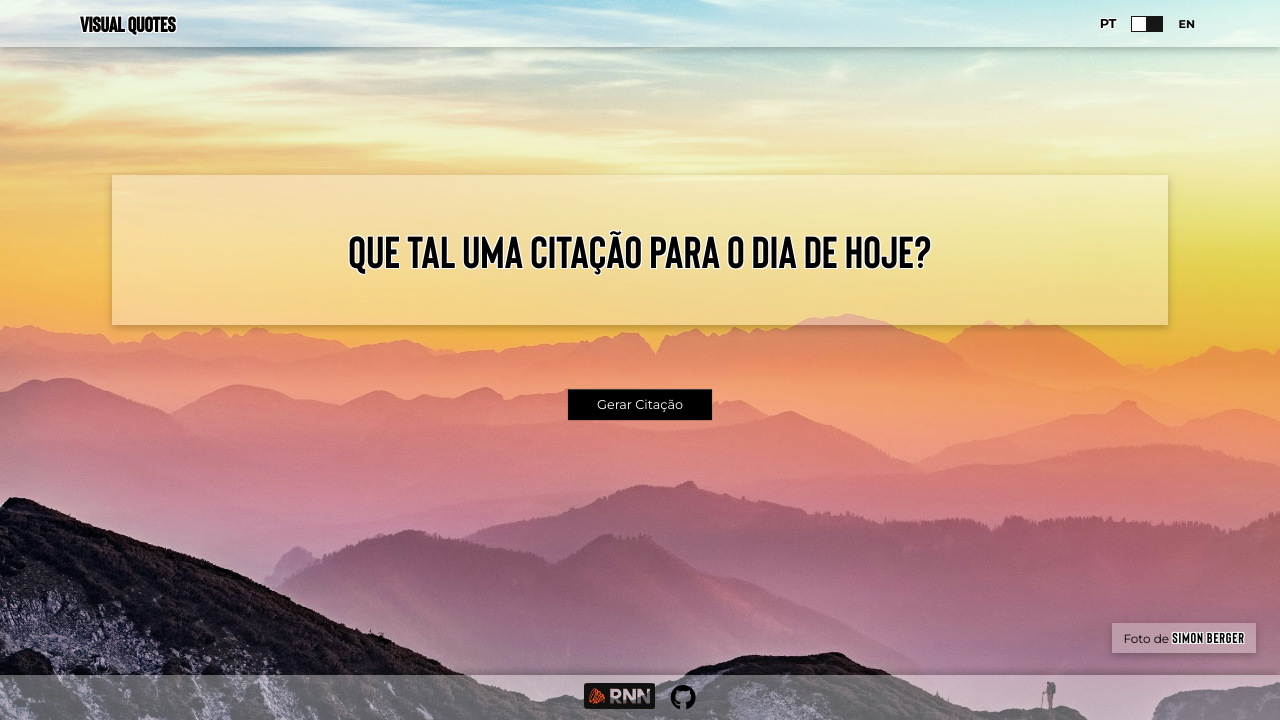
Test: Teste E2E para a Tela Inicial › Deve traduzir a frase ao alterar o idioma
Expected: the text with id "titulo" reads "Que tal uma citação para o dia de hoje?", [348, 223, 931, 277]
Expected: the button with class "botao-frase" reads "Gerar Citação", [568, 389, 712, 420]
Check the checkbox with id "idioma-toggle" at [1148, 24], box [1132, 16, 1164, 32]
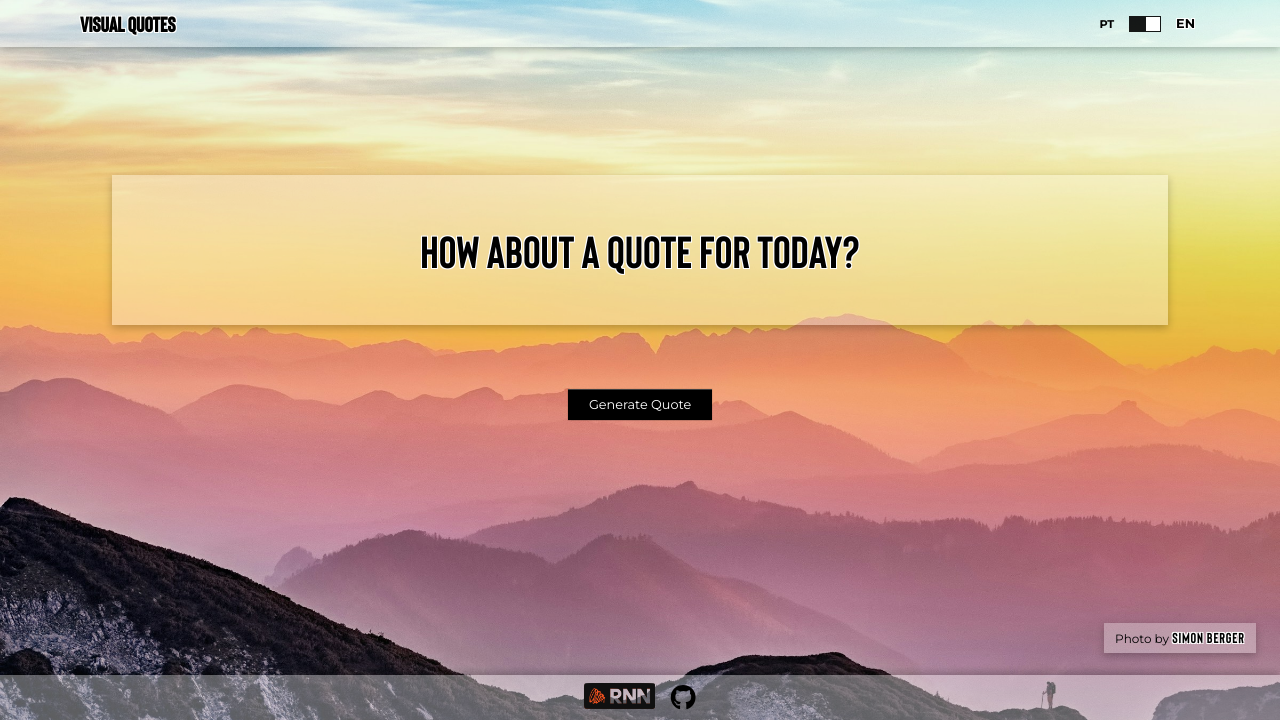
Now the text with id "titulo" reads "How about a quote for today?", box [420, 223, 860, 277]
Now the button with class "botao-frase" reads "Generate Quote", box [568, 389, 712, 420]
Uncheck the checkbox with id "idioma-toggle" at [1145, 24], box [1129, 16, 1161, 32]
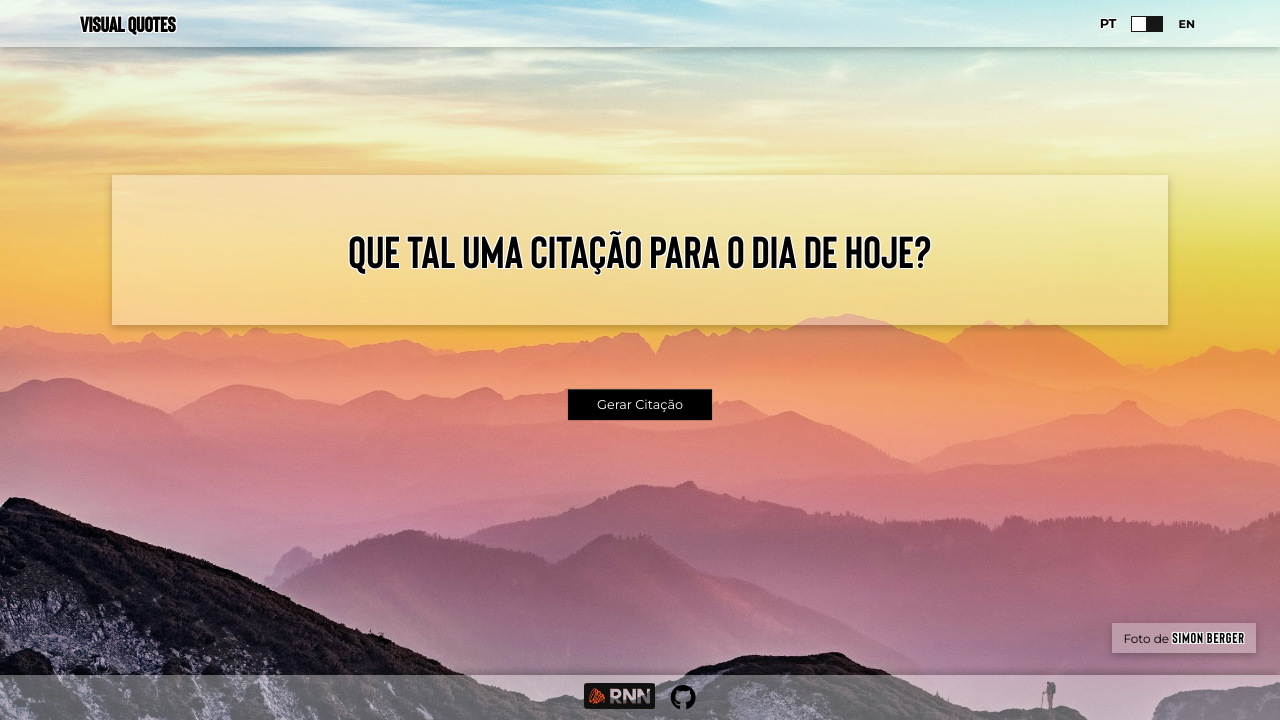
Now the text with id "titulo" reads "Que tal uma citação para o dia de hoje?", box [348, 223, 931, 277]
Now the button with class "botao-frase" reads "Gerar Citação", box [568, 389, 712, 420]
